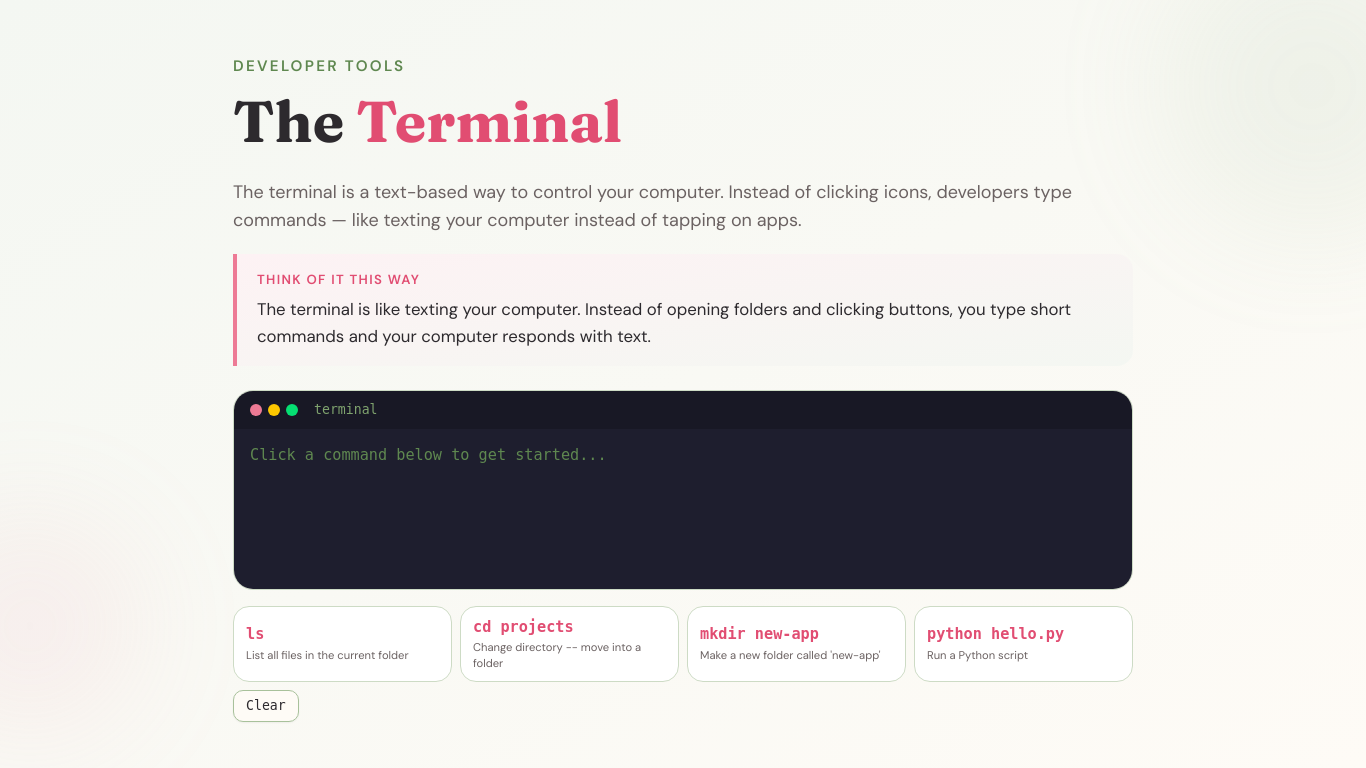
Test case: TerminalSlide › shows command output after clicking a command button
Click the button "ls List all files in the current folder" at [342, 644], box [233,606,452,682]
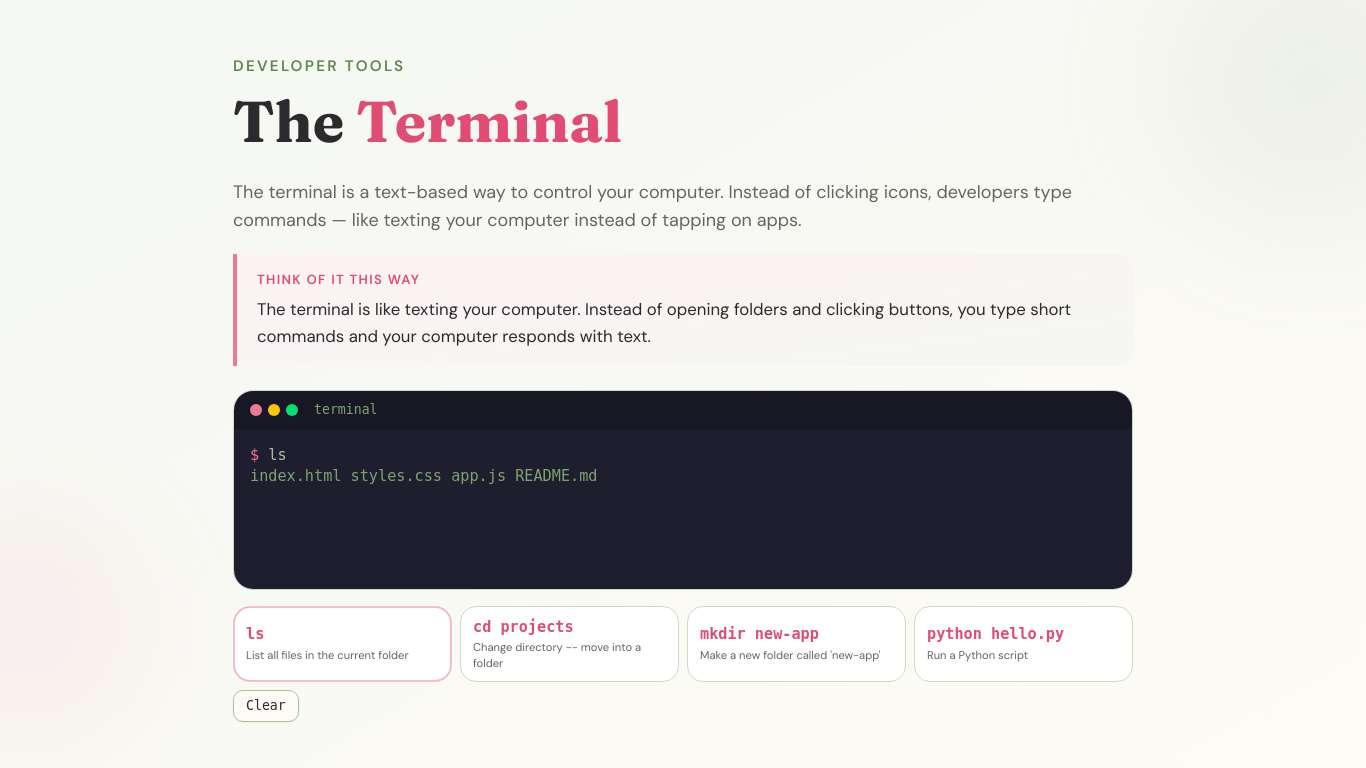
Expected: the element with test id "terminal-history" shows "$ ls", [234,429,1132,589]
Expected: the element with test id "terminal-history" shows "index.html", [250,467,598,485]
Expected: the element with test id "terminal-history" shows "app.js", [250,467,598,485]
